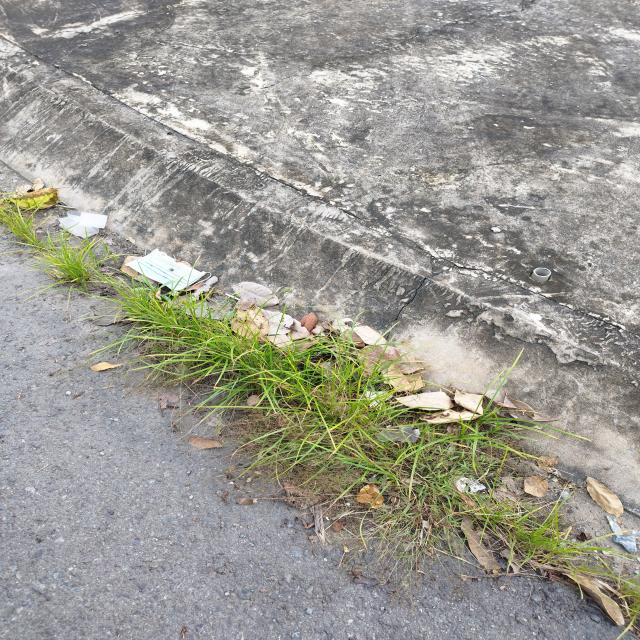mask: (125, 248, 212, 292)
napkin: (58, 210, 108, 240)
